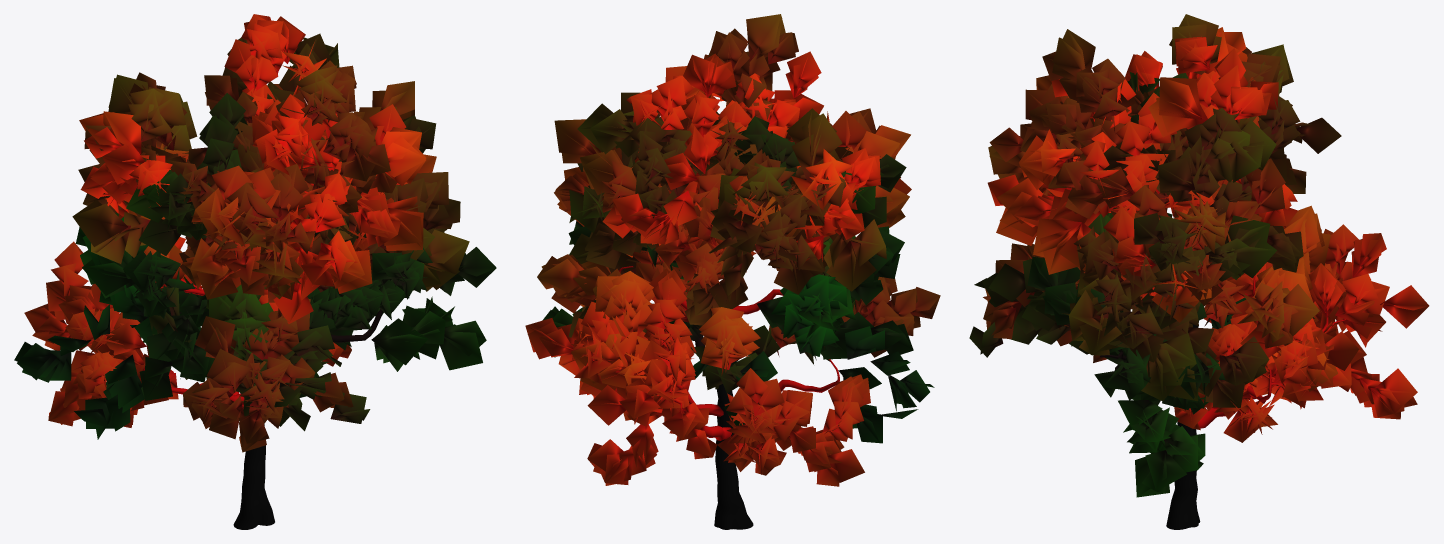
File: Tree1.fbx
3 views of the same model, side by side, from view 1: azimuth 30°, elevation 25°; view 2: azimuth 150°, elevation 25°; view 3: azimuth 270°, elevation 25° (orthographic). The views are drawn at different scales.
Parts seen in each view (by area): view 1: arbol_alta_polySurface506, arbol_alta_polySurface114; view 2: arbol_alta_polySurface506, arbol_alta_polySurface114; view 3: arbol_alta_polySurface506, arbol_alta_polySurface114.
Part boxes in pixels (x1,y1,x2,y2): arbol_alta_polySurface506: (14,14,496,452); arbol_alta_polySurface114: (142,279,382,529); arbol_alta_polySurface506: (525,14,940,486); arbol_alta_polySurface114: (618,266,839,529); arbol_alta_polySurface506: (969,14,1429,497); arbol_alta_polySurface114: (1100,275,1345,529).
Size of the model in its own units: 917 by 964 by 812.
